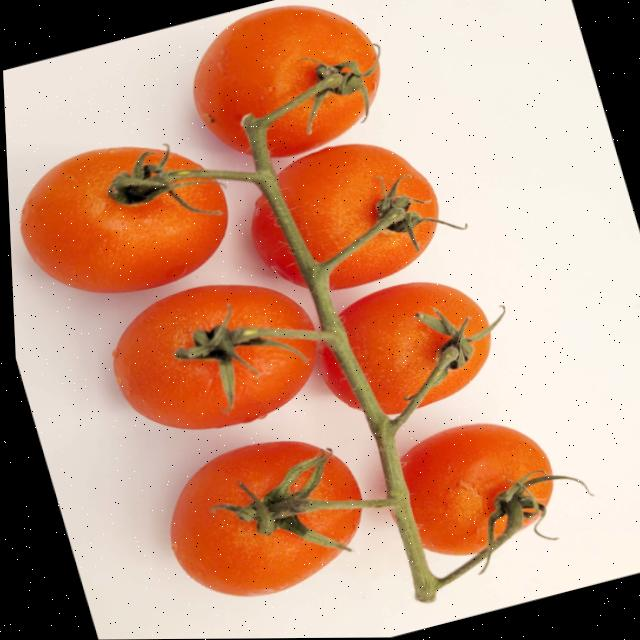ripe2: (20, 147, 227, 292), (112, 285, 316, 429), (193, 5, 379, 158), (170, 441, 341, 596), (401, 423, 552, 555), (339, 282, 488, 414), (278, 144, 438, 261), (329, 221, 435, 289), (418, 334, 490, 407), (252, 194, 305, 286), (317, 346, 357, 407), (310, 455, 361, 500), (298, 508, 361, 543), (241, 125, 259, 170)
